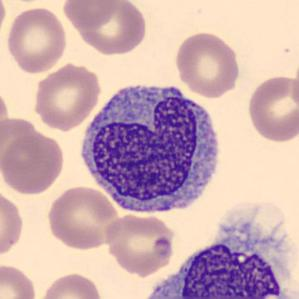Monocyte: (74, 74, 228, 221), (136, 196, 297, 299)
RBC: (44, 184, 122, 251), (31, 60, 103, 132), (172, 30, 242, 98), (103, 211, 177, 275), (4, 5, 69, 75), (70, 0, 149, 57), (1, 130, 67, 196), (245, 73, 297, 143), (0, 111, 42, 177), (34, 270, 106, 299), (0, 186, 26, 261), (60, 0, 119, 30), (0, 261, 38, 299)
